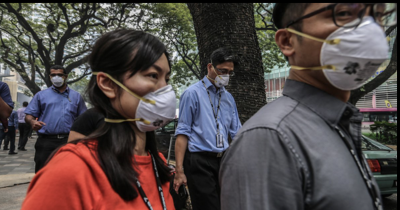with_mask: (296, 3, 392, 90), (117, 63, 179, 131), (213, 66, 235, 88), (49, 70, 65, 87)
